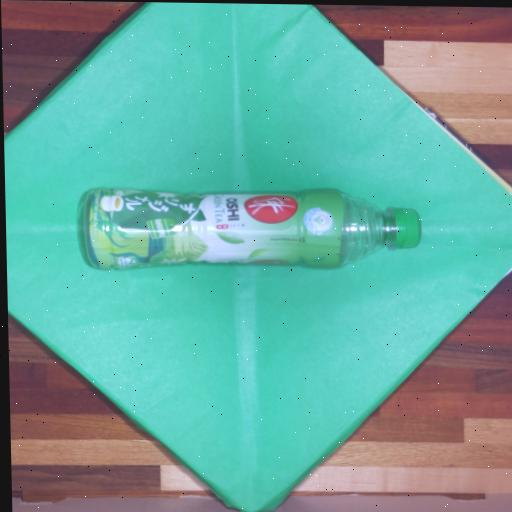bottle: (56, 173, 437, 288)
